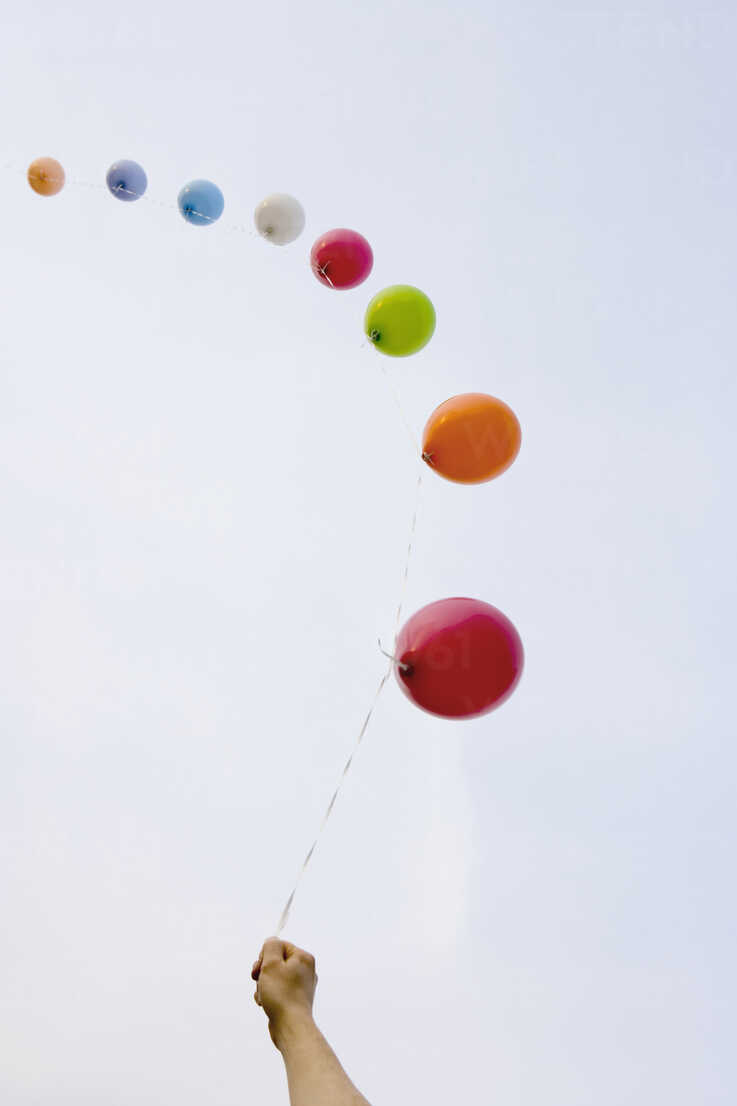Balloon: (393, 598, 524, 719), (421, 391, 522, 484), (364, 282, 437, 356), (309, 229, 373, 288), (257, 192, 307, 246), (179, 180, 223, 226), (106, 160, 147, 201), (28, 156, 65, 197)
